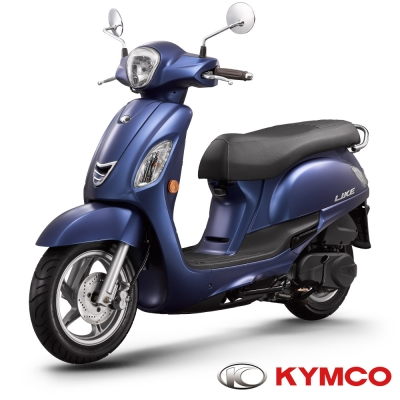motorcycle: (12, 6, 386, 360)
